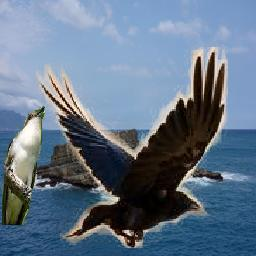Crow: (36, 48, 228, 249)
Cuckoo: (3, 107, 46, 226)
